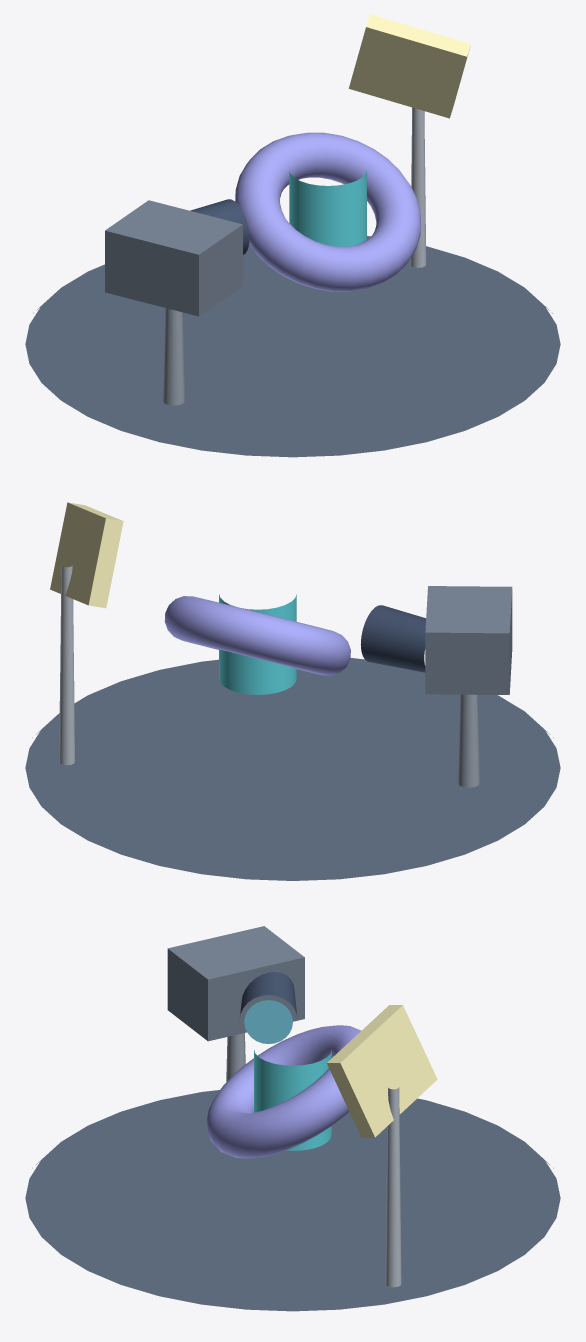
Rendered from it-webgl.glb.
3 renders of one model, top to bottom at view 1: azimuth 30°, elevation 25°; view 2: azimuth 150°, elevation 25°; view 3: azimuth 270°, elevation 25°, orthographic.
Parts seen in each view (by area): view 1: Studio_Floor, Center_Shader_Ring, Cam_Body, Softbox_Panel, Center_Core_Orb, Cam_Tripod_Post, Softbox_Stand, Cam_Lens_Barrel; view 2: Studio_Floor, Cam_Body, Center_Shader_Ring, Softbox_Panel, Cam_Lens_Barrel, Center_Core_Orb, Softbox_Stand, Cam_Tripod_Post; view 3: Studio_Floor, Center_Shader_Ring, Cam_Body, Softbox_Panel, Center_Core_Orb, Softbox_Stand, Cam_Lens_Glass, Cam_Lens_Barrel, Cam_Tripod_Post.
Part boxes in pixels (x1,y1,x2,y2): Studio_Floor: (25, 236, 560, 457); Center_Shader_Ring: (235, 132, 420, 291); Cam_Body: (105, 200, 242, 316); Softbox_Panel: (349, 14, 470, 118); Center_Core_Orb: (289, 170, 366, 246); Cam_Tripod_Post: (162, 308, 184, 405); Softbox_Stand: (410, 107, 426, 267); Cam_Lens_Barrel: (190, 199, 249, 254); Studio_Floor: (25, 658, 560, 880); Cam_Body: (425, 586, 512, 694); Center_Shader_Ring: (164, 596, 350, 675); Softbox_Panel: (50, 502, 123, 608); Cam_Lens_Barrel: (360, 605, 426, 672); Center_Core_Orb: (219, 594, 296, 694); Softbox_Stand: (59, 565, 74, 765); Cam_Tripod_Post: (457, 694, 479, 787); Studio_Floor: (25, 1090, 560, 1311); Center_Shader_Ring: (206, 1025, 361, 1158); Cam_Body: (167, 926, 304, 1041); Softbox_Panel: (327, 1005, 437, 1137); Center_Core_Orb: (254, 1050, 331, 1150); Softbox_Stand: (385, 1087, 401, 1287); Cam_Lens_Glass: (244, 1000, 292, 1043); Cam_Lens_Barrel: (239, 972, 297, 1018); Cam_Tripod_Post: (226, 1033, 245, 1081).
Bounding box in the file's own units: 3.44 × 1.83 × 3.44.
